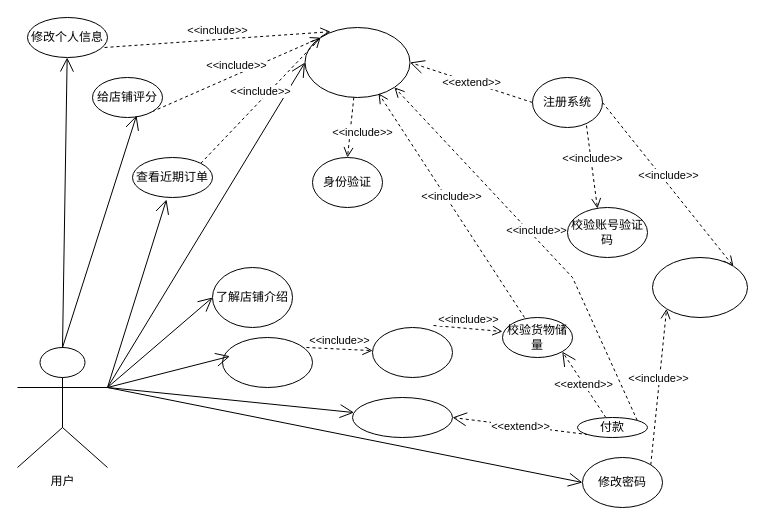
This 765x525 diagram has some shape labels left out. Here are the shapes that lost their labels. From the top down, the box of each, then its label:
(304, 26, 410, 98): 登陆系统
(652, 256, 748, 318): 发送邮箱验证码
(222, 336, 312, 388): 购物
(372, 326, 452, 378): 选择具体商品具体尺码
(352, 396, 452, 438): 充值购物金
